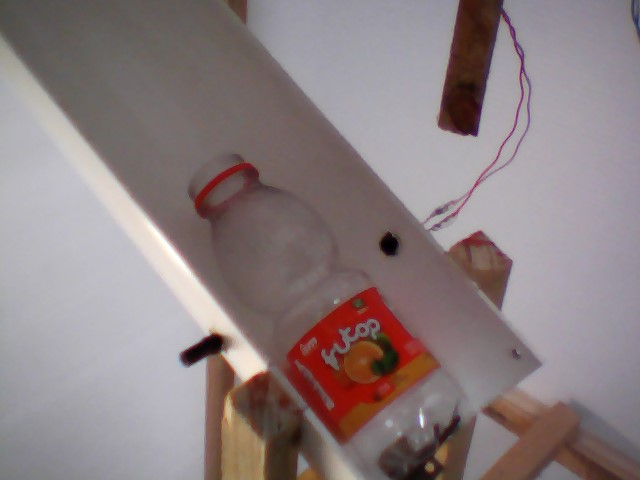plastico: (183, 151, 472, 480)
